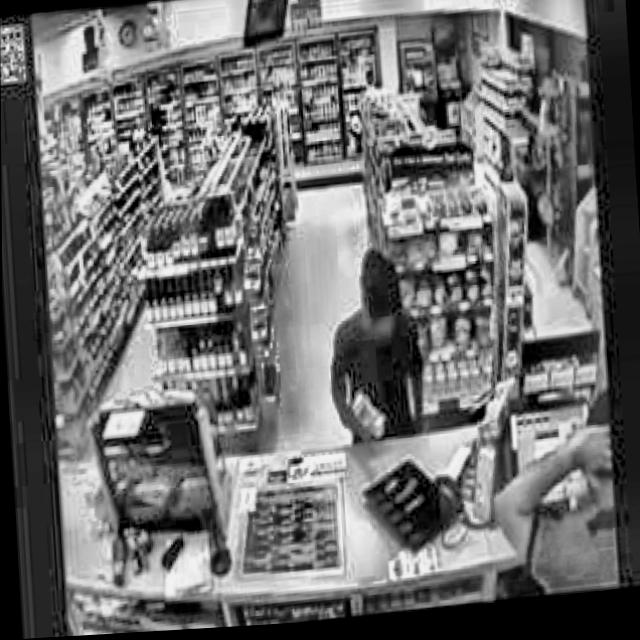robbery: (481, 399, 618, 606), (322, 246, 432, 456)
